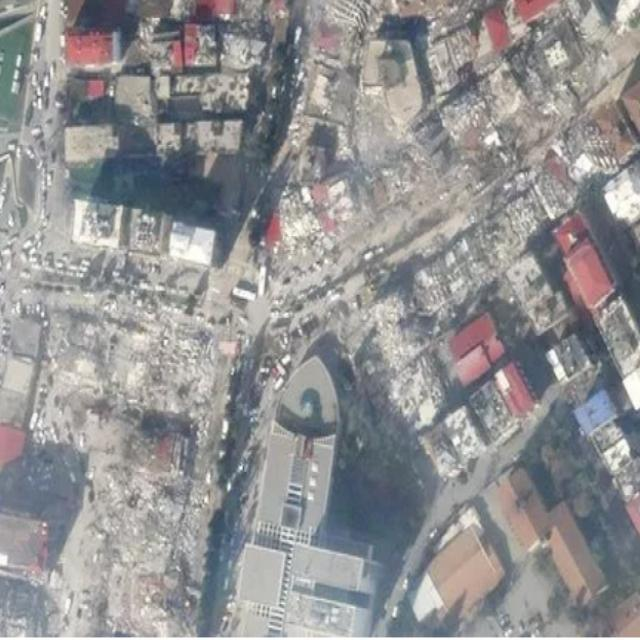Rubble: (138, 308, 214, 404), (65, 302, 136, 396), (120, 476, 207, 550), (114, 562, 198, 634), (291, 79, 364, 152), (386, 354, 450, 428), (437, 92, 495, 165), (450, 216, 503, 295), (260, 184, 316, 253), (520, 37, 580, 100), (323, 165, 383, 228), (368, 296, 424, 363), (140, 419, 202, 477), (388, 121, 438, 189), (92, 469, 128, 561), (565, 119, 622, 174), (532, 152, 580, 215), (426, 26, 482, 78), (411, 249, 446, 317), (494, 192, 542, 236), (324, 12, 374, 44)
